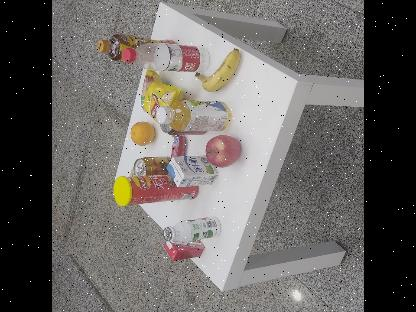Can: (134, 152, 172, 176)
Others: (112, 174, 200, 206), (165, 152, 220, 190), (165, 238, 206, 261)
Plastic Bottle: (120, 40, 202, 72), (163, 215, 223, 240)
